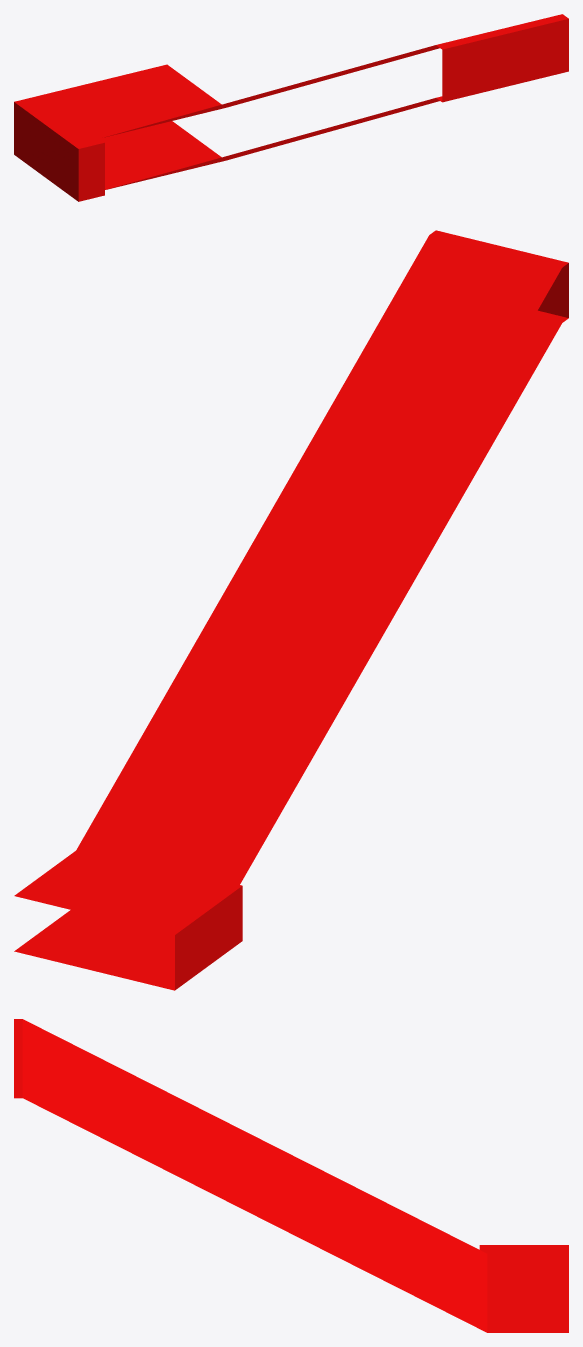
File: FinalMap_Stairs_Collision 1.FBX
The picture shows the model from 3 angles, top to bottom: view 1: azimuth 30°, elevation 25°; view 2: azimuth 150°, elevation 25°; view 3: azimuth 270°, elevation 25°; orthographic projection. The views are drawn at different scales.
Visible parts, largest first — view 1: FinalMap_Stairs_Collision; view 2: FinalMap_Stairs_Collision; view 3: FinalMap_Stairs_Collision.
Part boxes in pixels (bbox=[...]): FinalMap_Stairs_Collision: bbox=[14, 14, 568, 201]; FinalMap_Stairs_Collision: bbox=[14, 230, 568, 990]; FinalMap_Stairs_Collision: bbox=[14, 1019, 568, 1332].
Bounding box in the file's own units: 222 × 545 × 1010.
